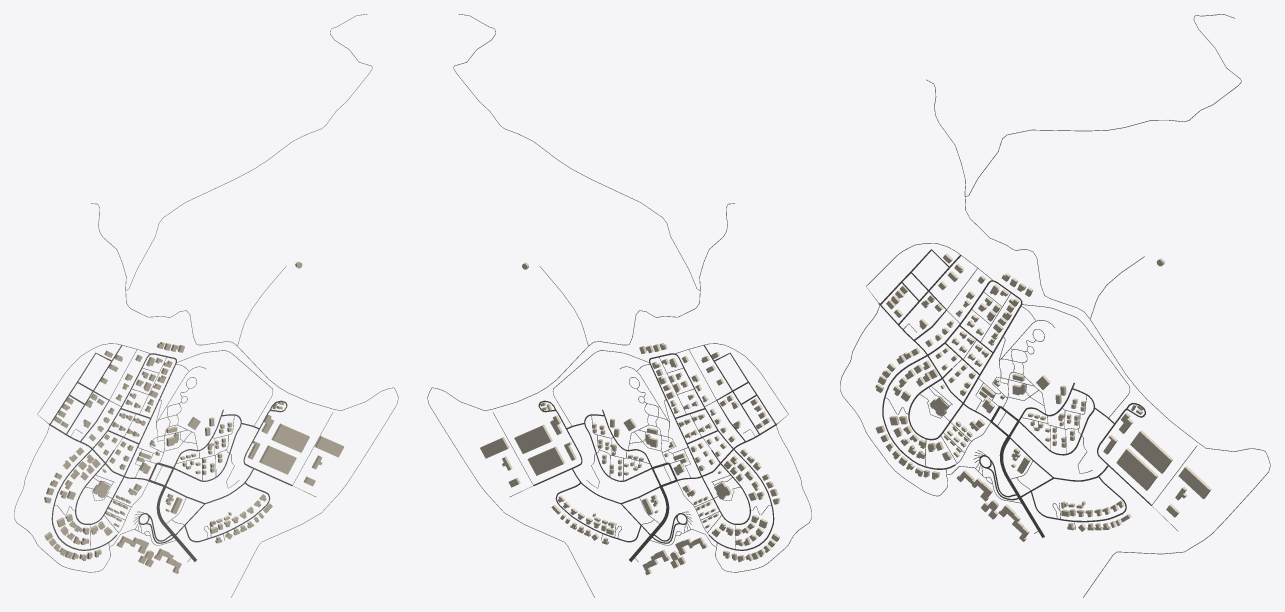
Rendered from historic-palestine-07_20_3488_3143.glb.
The picture shows the model from 3 angles, left to right: view 1: azimuth 30°, elevation 25°; view 2: azimuth 150°, elevation 25°; view 3: azimuth 330°, elevation 25°; orthographic projection. The views are drawn at different scales.
Visible parts, largest first — view 1: Building_.002, Building_.001, Road .001; view 2: Building_.002, Building_.001, Road .001; view 3: Building_.002, Building_.001, Road .001.
Boxes of the visible parts, x1,y1,x2,y2 form: Building_.002: (271,423,309,452); Building_.001: (259,445,296,474); Road .001: (51,353,176,550); Building_.002: (514,425,552,453); Building_.001: (527,446,564,475); Road .001: (649,353,774,550); Building_.002: (1130,430,1172,473); Building_.001: (1116,448,1157,490); Road .001: (882,280,1022,469).
Size of the model in its own units: 1024 by 1405 by 8.7.
